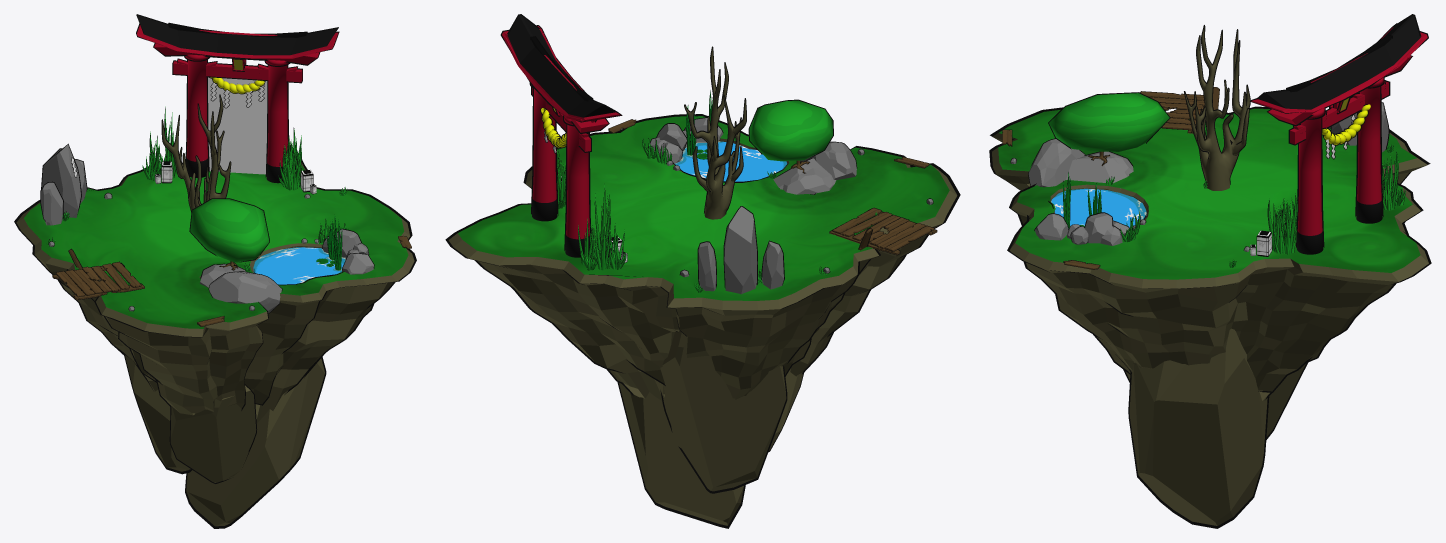
The model's file is SET2.glb.
The picture shows the model from 3 angles, left to right: view 1: azimuth 30°, elevation 25°; view 2: azimuth 150°, elevation 25°; view 3: azimuth 270°, elevation 25°; orthographic projection. The views are drawn at different scales.
Parts seen in each view (by area): view 1: main-cliff.001, Torii gate.003, Sphere.010, Sphere.012, portal-plane, Sphere.014, Sphere.015, dead tree, wood-1.001, Sphere.013, pond-water, rock-with bonsai.014 (+2 smaller); view 2: main-cliff.001, Sphere.013, Torii gate.003, Sphere.010, Sphere.015, Sphere.014, dead tree, wood-1.001, pond-water, rock-with bonsai, rock-with bonsai.014, Sphere.012 (+1 smaller); view 3: main-cliff.001, Sphere.010, Torii gate.003, Sphere.014, dead tree, pond-water, wood-1.001, rock-with bonsai.014, rock-with bonsai, Sphere.013, shimenawa, Sphere.001 (+4 smaller).
Boxes of the visible parts, left/top/right/bottom form: main-cliff.001: left=14, top=145, right=416, bottom=423; Torii gate.003: left=136, top=14, right=339, bottom=183; Sphere.010: left=185, top=357, right=326, bottom=528; Sphere.012: left=169, top=384, right=257, bottom=483; portal-plane: left=208, top=77, right=267, bottom=174; Sphere.014: left=189, top=198, right=269, bottom=262; Sphere.015: left=40, top=143, right=87, bottom=225; dead tree: left=161, top=94, right=231, bottom=212; wood-1.001: left=52, top=236, right=411, bottom=326; Sphere.013: left=123, top=353, right=191, bottom=474; pond-water: left=253, top=247, right=345, bottom=284; rock-with bonsai.014: left=208, top=271, right=282, bottom=313; main-cliff.001: left=445, top=114, right=960, bottom=400; Sphere.013: left=660, top=331, right=787, bottom=493; Torii gate.003: left=500, top=14, right=622, bottom=257; Sphere.010: left=617, top=382, right=745, bottom=528; Sphere.015: left=697, top=206, right=784, bottom=294; Sphere.014: left=748, top=99, right=833, bottom=161; dead tree: left=684, top=46, right=746, bottom=219; wood-1.001: left=608, top=119, right=937, bottom=255; pond-water: left=674, top=141, right=787, bottom=181; rock-with bonsai: left=773, top=158, right=836, bottom=194; rock-with bonsai.014: left=800, top=141, right=857, bottom=180; Sphere.012: left=768, top=368, right=803, bottom=452; main-cliff.001: left=989, top=106, right=1431, bottom=400; Sphere.010: left=1128, top=328, right=1269, bottom=528; Torii gate.003: left=1250, top=14, right=1428, bottom=254; Sphere.014: left=1048, top=92, right=1170, bottom=151; dead tree: left=1184, top=25, right=1250, bottom=190; pond-water: left=1051, top=188, right=1146, bottom=228; wood-1.001: left=1002, top=87, right=1219, bottom=269; rock-with bonsai.014: left=1028, top=138, right=1085, bottom=187; rock-with bonsai: left=1066, top=151, right=1133, bottom=183; Sphere.013: left=1266, top=362, right=1308, bottom=439; shimenawa: left=1322, top=104, right=1370, bottom=145; Sphere.001: left=1034, top=213, right=1068, bottom=240.
Size of the model in its own units: 4.75 by 5.99 by 4.67.
Materials: 19 (8 with a texture image).
